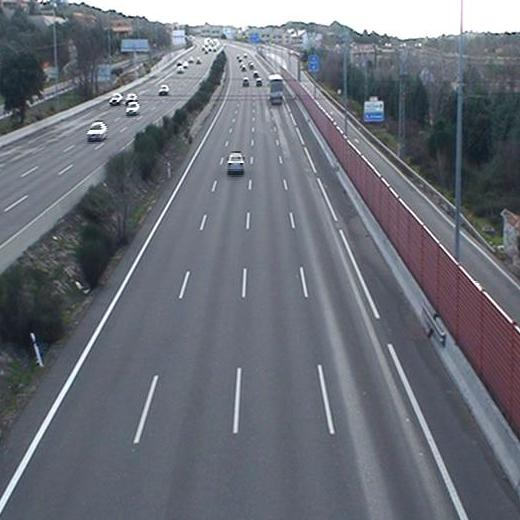car: (227, 152, 245, 174)
truck: (268, 75, 284, 105)
